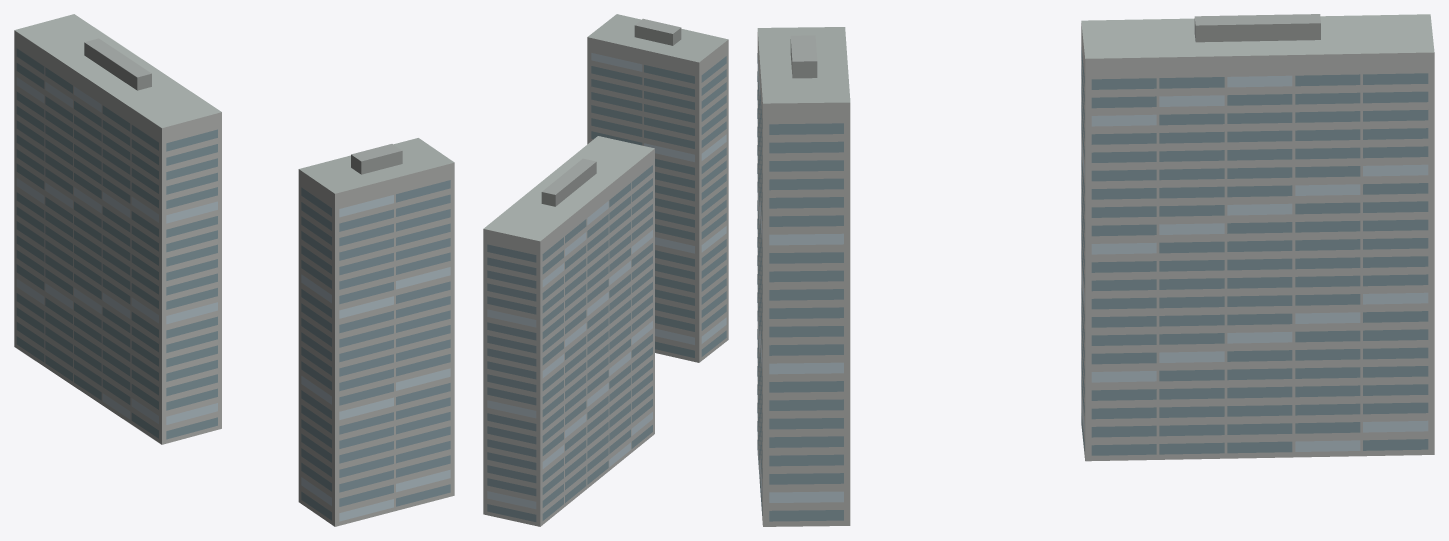
File: apt-a13285401.glb
3 renders of one model, left to right at view 1: azimuth 30°, elevation 25°; view 2: azimuth 150°, elevation 25°; view 3: azimuth 270°, elevation 25°, orthographic. The views are drawn at different scales.
Parts seen in each view (by area): view 1: apt-a13285401; view 2: apt-a13285401; view 3: apt-a13285401.
Part boxes in pixels (x1,y1,x2,y2): apt-a13285401: (14, 14, 454, 526); apt-a13285401: (483, 14, 728, 526); apt-a13285401: (757, 14, 1434, 526).
Size of the model in its own units: 33.89 by 63 by 87.85.
